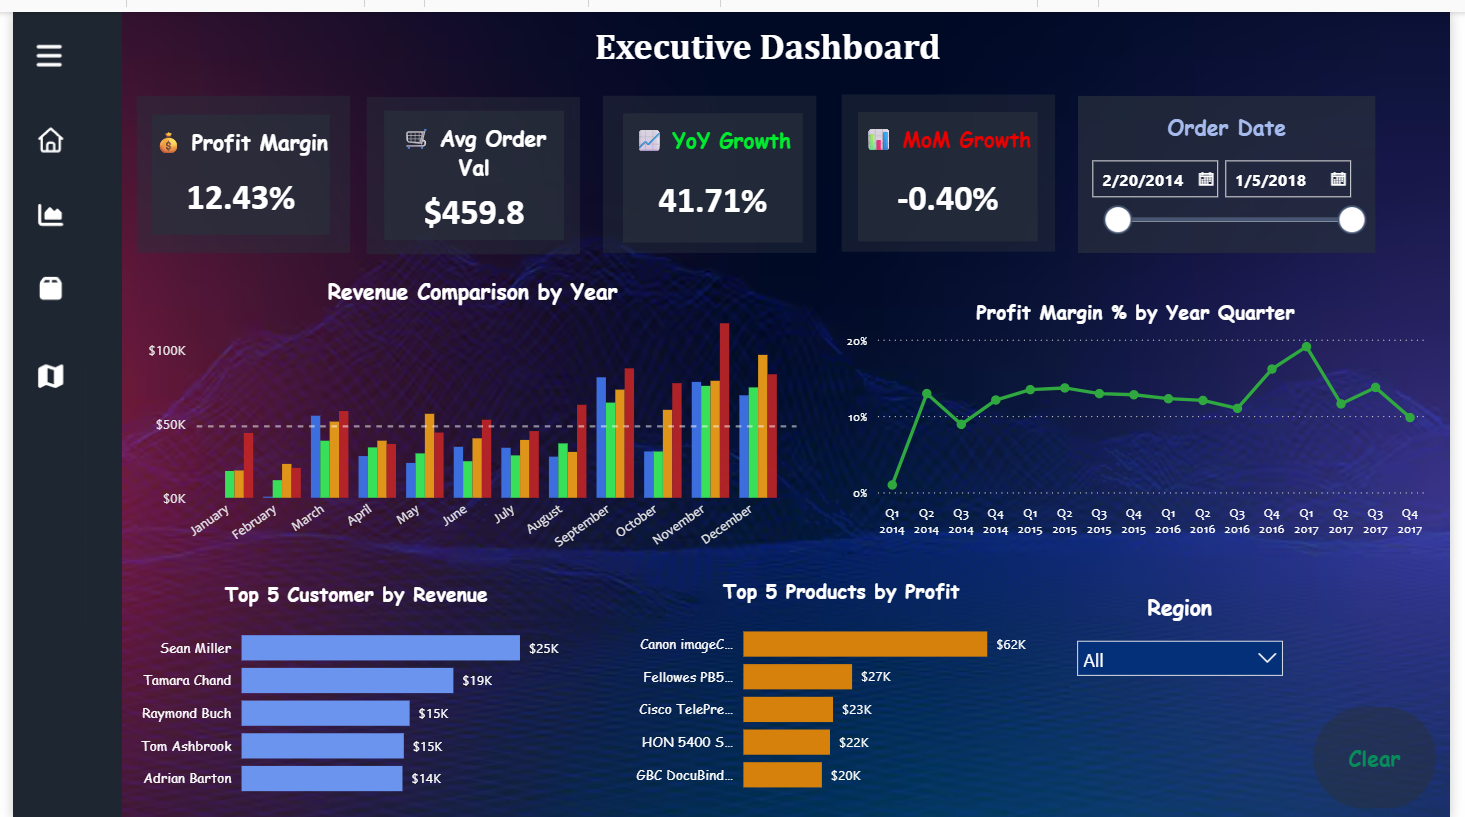

The page's visual inventory and layout, read from the dashboard file:
{"tool":"powerbi","page":{"name":"Executive","canvas":[1280,720],"ordinal":1},"visuals":[{"type":"actionButton","title":"title","box":[65,2.5,1215,56.2],"z":0},{"type":"shape","box":[110,75,190,140],"z":0,"group":"g2"},{"type":"shape","title":"left nav1","box":[0,0,65,720],"z":1000},{"type":"card","title":"💰 Profit Margin","fields":{"Values":["measure.Profit Margin %"]},"box":[123.8,91.2,158.8,107.5],"z":1000,"group":"g2"},{"type":"shape","title":"left nav2","box":[65,0,32.5,720],"z":2000},{"type":"actionButton","title":"menu bar","box":[12.5,18.8,40,40],"z":2000,"group":"g1"},{"type":"group","id":"g1","title":"Menu Bar","box":[12.5,18.8,40,40],"z":5000},{"type":"actionButton","title":"map","box":[16,304,40,40],"z":7000},{"type":"actionButton","title":"product","box":[16,226,40,40],"z":8000},{"type":"actionButton","title":"executive","box":[16,160,40,40],"z":9000},{"type":"actionButton","title":"home","box":[16,93,40,40],"z":10000},{"type":"slicer","title":"Order Date","fields":{"Values":["dim_date.date"]},"box":[948.8,75,265,140],"z":11000},{"type":"slicer","title":"Region","fields":{"Values":["dim_customer.region"]},"box":[937.2,503.5,203.4,115.2],"z":12000},{"type":"actionButton","box":[1158.2,618.9,109.8,90.5],"z":13000},{"type":"shape","box":[315.5,75.8,190,140],"z":14000},{"type":"shape","box":[525.5,74.7,190,140],"z":15000},{"type":"card","title":"📈 YoY Growth ","fields":{"Values":["measure.Revenue YoY %"]},"box":[543,89.7,160,115],"z":16000},{"type":"card","title":"🛒 Avg Order Val","fields":{"Values":["measure.Average Orders Value"]},"box":[330.5,88.3,160,115],"z":17000},{"type":"shape","box":[737.5,73.8,190,140],"z":18000},{"type":"card","title":"📊 MoM Growth","fields":{"Values":["measure.Revenue MoM %"]},"box":[752.5,88.8,160,115],"z":19000},{"type":"group","id":"g2","title":"profit margin","box":[110,75,190,140],"z":20000},{"type":"clusteredColumnChart","title":"Revenue Comparison by Year","fields":{"Category":["dim_date.month_name"],"Series":["dim_date.year"],"Y":["measure.Total Revenue"]},"box":[115.7,224.3,587.1,272.9],"z":21000},{"type":"lineChart","fields":{"Category":["dim_date.Year Quarter"],"Y":["measure.Profit Margin %"]},"box":[737.1,245.7,525.7,230],"z":22000},{"type":"clusteredBarChart","title":"Top 5 Customer by Revenue","fields":{"Category":["dim_customer.customer_name"],"Y":["measure.Total Revenue"]},"box":[105.7,501.4,400,210],"z":23000},{"type":"clusteredBarChart","title":"Top 5 Products by Profit","fields":{"Category":["dim_product.product_name"],"Y":["measure.Total Revenue"]},"box":[537.1,497.1,400,210],"z":24000}]}

Visuals, with their boxes in screenshot pixels (x1, y1, x2, y2), scaled from the page's 1280x720 canvas onto the 1465x817 screenshot:
"title" actionButton: pyautogui.locateOnScreen(74, 3, 1464, 67)
shape: pyautogui.locateOnScreen(126, 85, 343, 244)
"left nav1" shape: pyautogui.locateOnScreen(0, 0, 74, 816)
"💰 Profit Margin" card: pyautogui.locateOnScreen(142, 103, 323, 225)
"left nav2" shape: pyautogui.locateOnScreen(74, 0, 112, 816)
"menu bar" actionButton: pyautogui.locateOnScreen(14, 21, 60, 67)
"Menu Bar" group: pyautogui.locateOnScreen(14, 21, 60, 67)
"map" actionButton: pyautogui.locateOnScreen(18, 345, 64, 390)
"product" actionButton: pyautogui.locateOnScreen(18, 256, 64, 302)
"executive" actionButton: pyautogui.locateOnScreen(18, 182, 64, 227)
"home" actionButton: pyautogui.locateOnScreen(18, 106, 64, 151)
"Order Date" slicer: pyautogui.locateOnScreen(1086, 85, 1389, 244)
"Region" slicer: pyautogui.locateOnScreen(1073, 571, 1305, 702)
actionButton: pyautogui.locateOnScreen(1326, 702, 1451, 805)
shape: pyautogui.locateOnScreen(361, 86, 579, 245)
shape: pyautogui.locateOnScreen(601, 85, 819, 244)
"📈 YoY Growth " card: pyautogui.locateOnScreen(621, 102, 805, 232)
"🛒 Avg Order Val" card: pyautogui.locateOnScreen(378, 100, 561, 231)
shape: pyautogui.locateOnScreen(844, 84, 1062, 243)
"📊 MoM Growth" card: pyautogui.locateOnScreen(861, 101, 1044, 231)
"profit margin" group: pyautogui.locateOnScreen(126, 85, 343, 244)
"Revenue Comparison by Year" clusteredColumnChart: pyautogui.locateOnScreen(132, 255, 804, 564)
lineChart - dim_date.Year Quarter x measure.Profit Margin %: pyautogui.locateOnScreen(844, 279, 1445, 540)
"Top 5 Customer by Revenue" clusteredBarChart: pyautogui.locateOnScreen(121, 569, 579, 807)
"Top 5 Products by Profit" clusteredBarChart: pyautogui.locateOnScreen(615, 564, 1073, 802)
